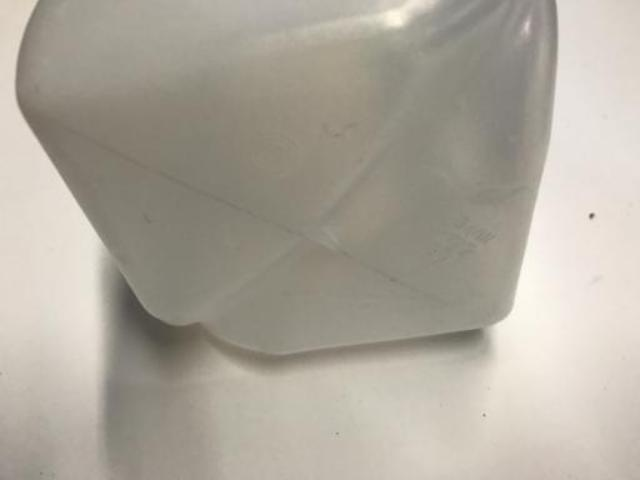plastic: (15, 0, 554, 351)
